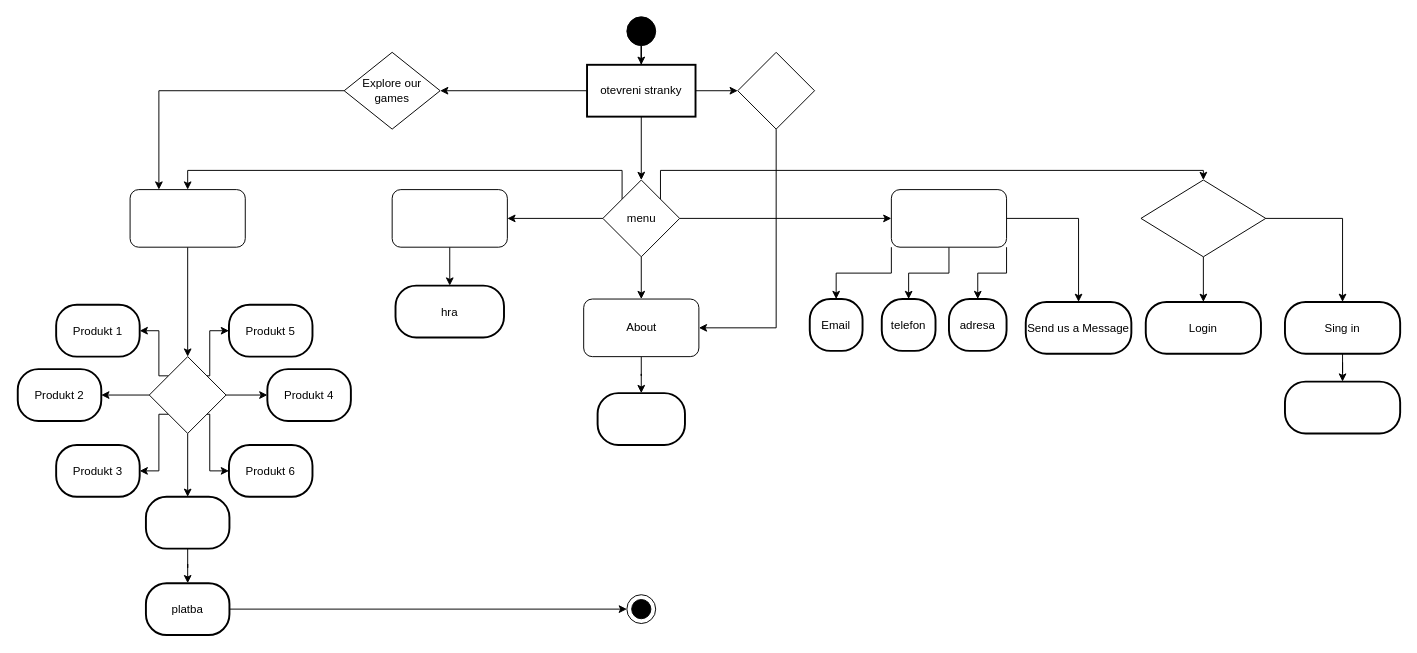
This 1417x653 diagram has some shape labels left out. The centre of each missing label's shape, as x and y in pixels:
"Contact" goes at (x=948, y=218).
"Games" goes at (x=187, y=218).
"historie" goes at (x=640, y=418).
"košik" goes at (x=187, y=522).
"Learn more" goes at (x=776, y=90).
"Login / Sing in" goes at (x=1203, y=218).
"Obchod" goes at (x=187, y=394).
"Play game" goes at (x=449, y=218).
"potvrzení emailu" goes at (x=1342, y=407).
